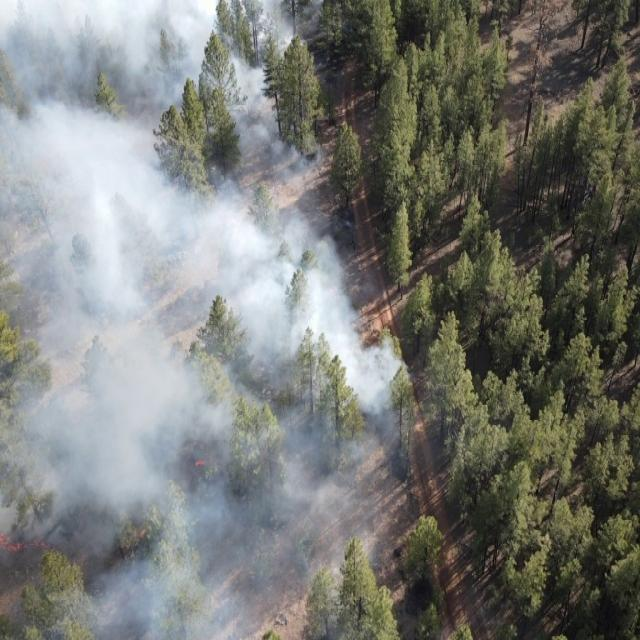fire: (0, 528, 51, 558), (192, 448, 218, 472)
smoke: (0, 0, 344, 640), (344, 242, 414, 638)
